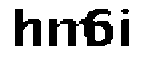6: (84, 6, 116, 49)
h: (12, 6, 44, 52)
i: (120, 5, 137, 49)
m: (46, 15, 90, 49)
